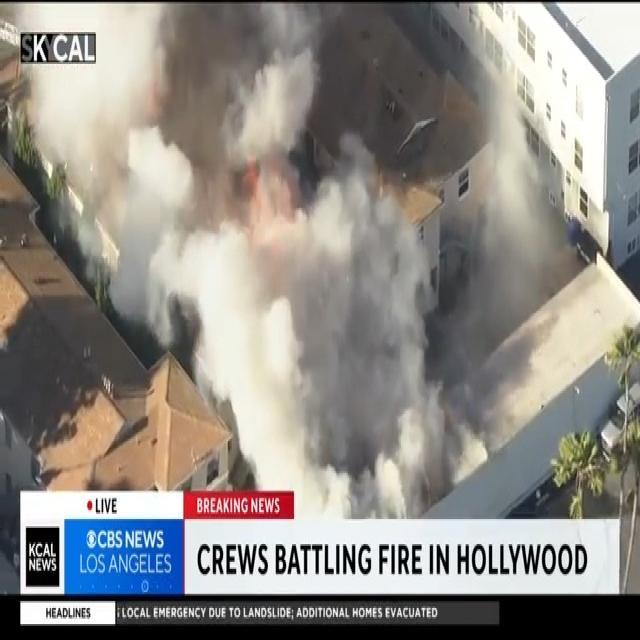Fire: (239, 147, 296, 215)
Smoke: (30, 0, 312, 331), (167, 207, 453, 518)
